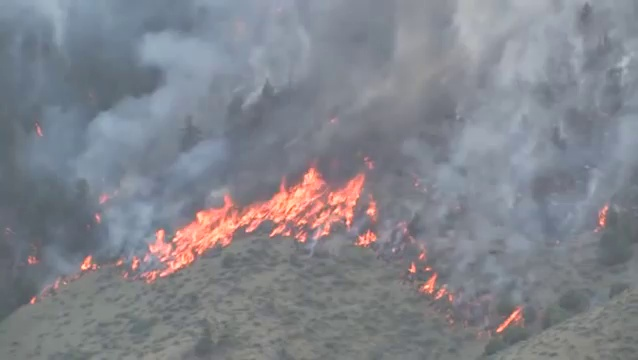fire: (147, 167, 363, 274), (424, 272, 437, 293), (358, 231, 375, 243), (80, 255, 91, 270), (598, 205, 606, 224), (368, 200, 378, 214)
